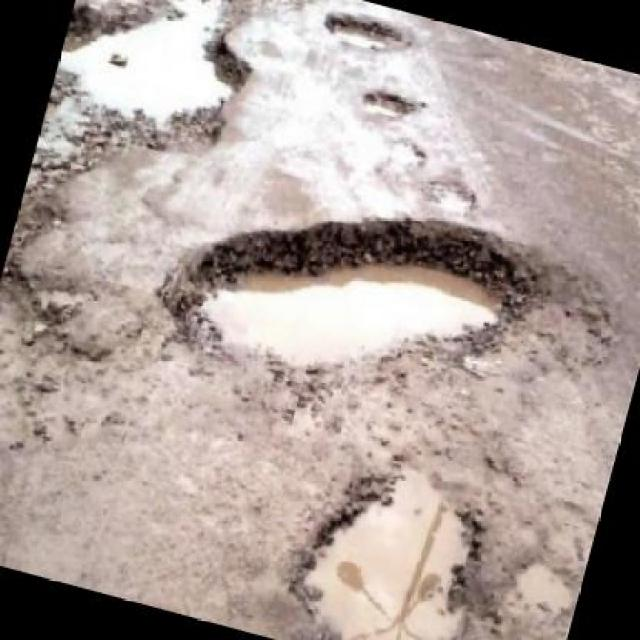pothole1: (148, 148, 634, 478), (6, 0, 283, 309), (271, 431, 509, 638), (0, 262, 102, 351), (318, 1, 418, 65), (505, 549, 583, 617), (419, 171, 484, 220), (358, 82, 422, 127), (377, 130, 431, 182)
